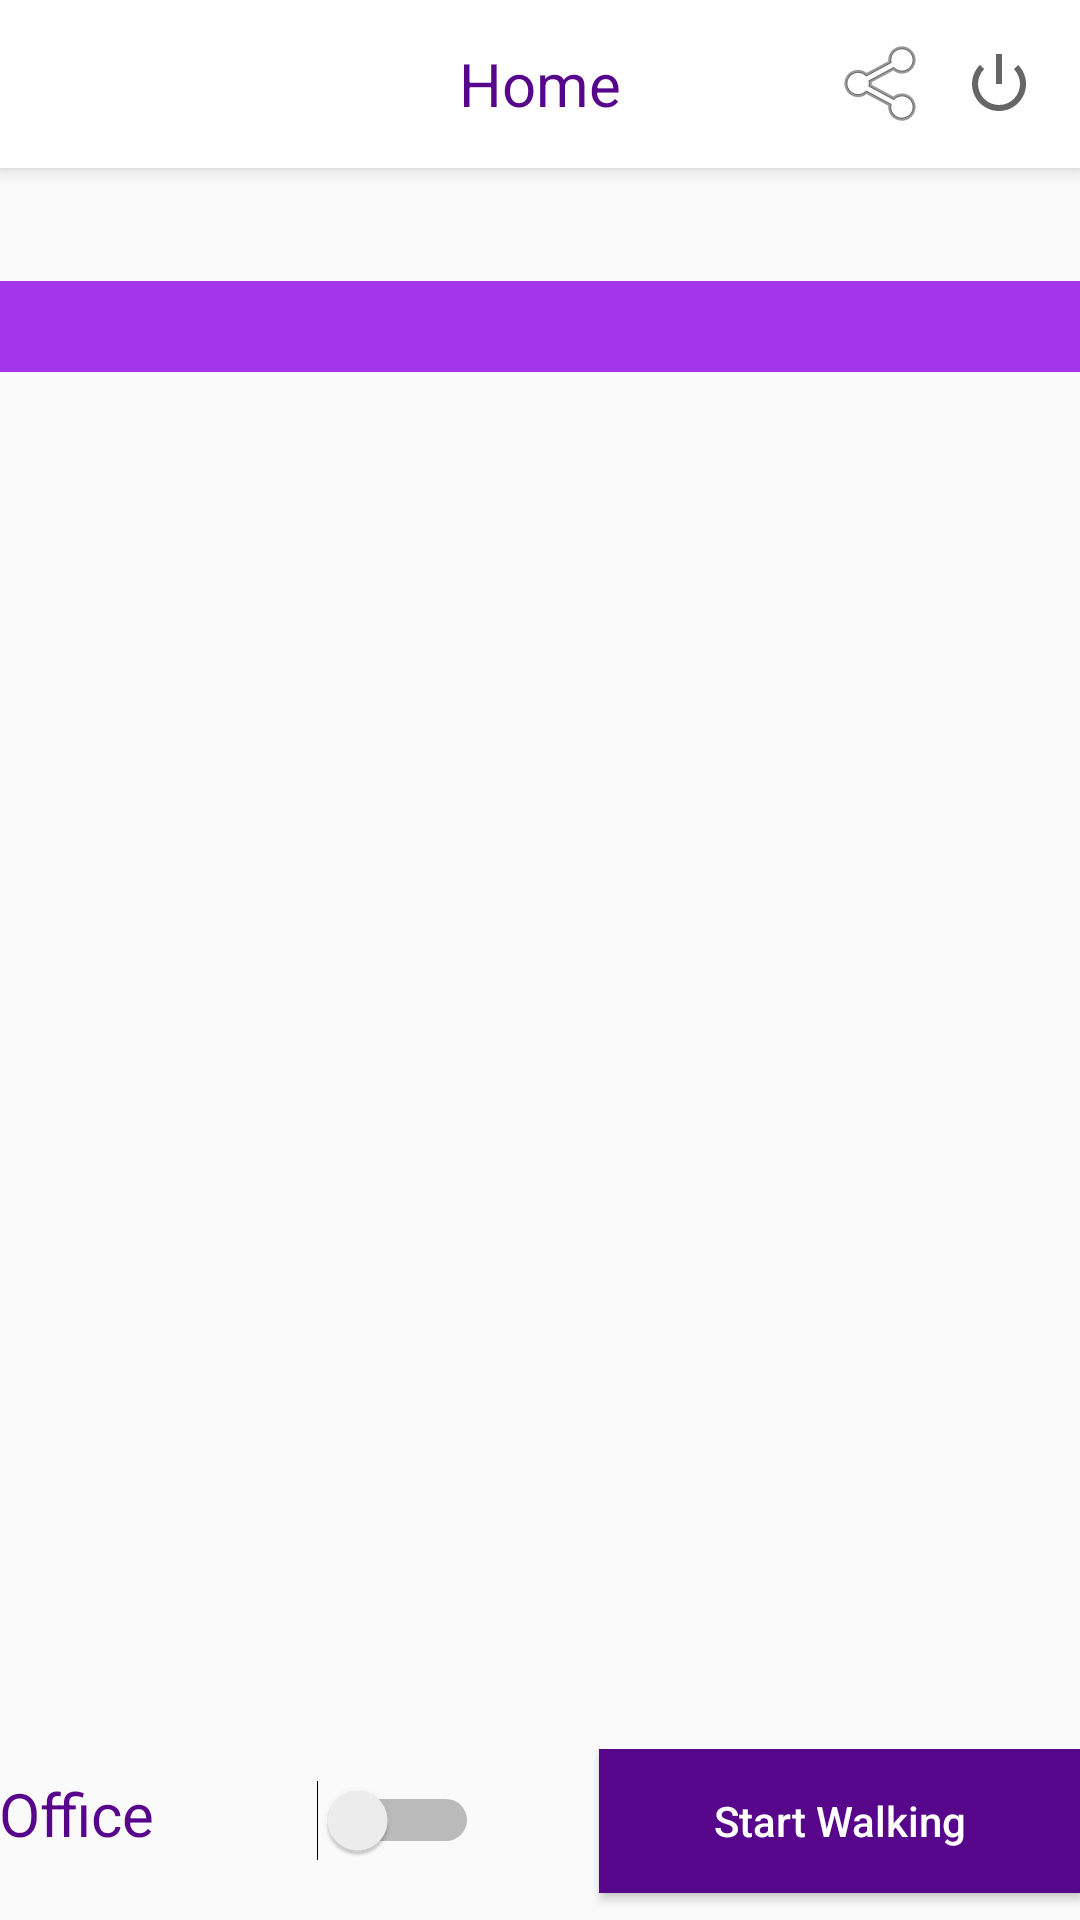

Point at icon controls on the screen. Image size 1080px×1920px, points as (x=x, y=y).
lock power off: (x=999, y=82)
share: (x=880, y=83)
